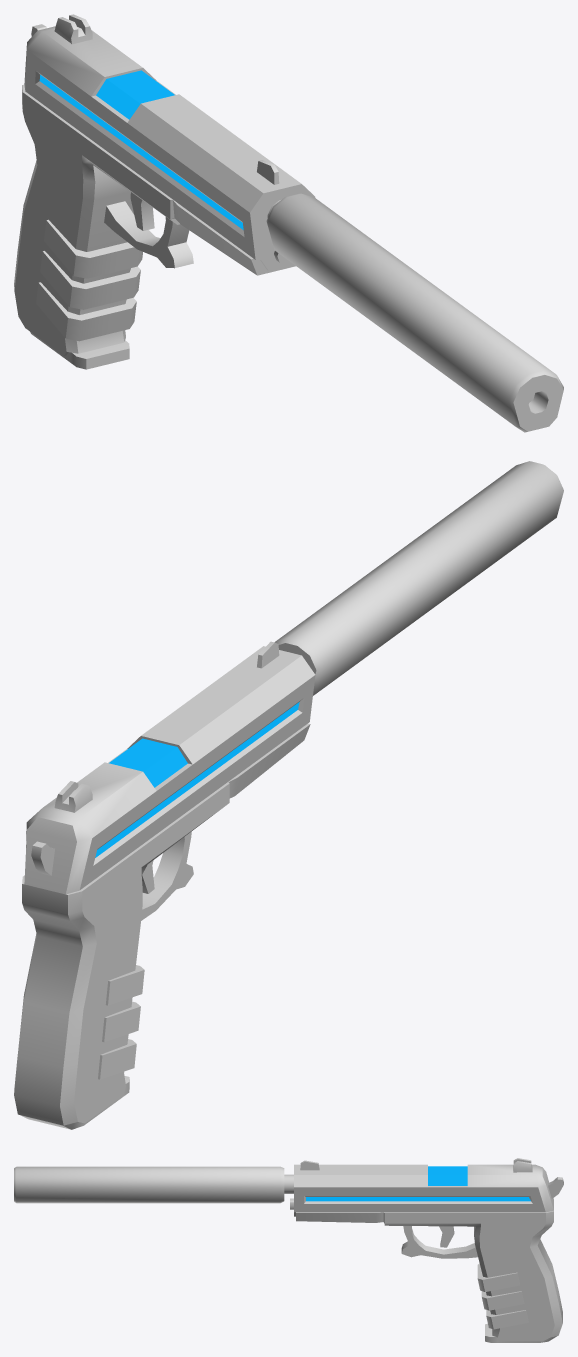
The model's file is USP.fbx.
The picture shows the model from 3 angles, top to bottom: view 1: azimuth 30°, elevation 25°; view 2: azimuth 150°, elevation 25°; view 3: azimuth 270°, elevation 25°; orthographic projection. The views are drawn at different scales.
Parts seen in each view (by area): view 1: SM_USP; view 2: SM_USP; view 3: SM_USP.
Boxes of the visible parts, x1,y1,x2,y2 form: SM_USP: (14,14,563,432); SM_USP: (14,461,563,1129); SM_USP: (14,1158,563,1342).
Bounding box in the file's own units: 5.82 × 25.99 × 73.71.
